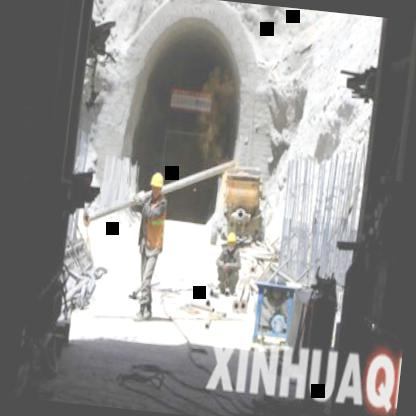helmet: (148, 168, 166, 199), (224, 228, 239, 252)
